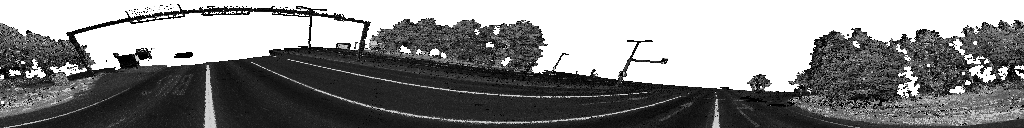gantry_sign_pole: (66, 4, 370, 75), (620, 40, 666, 80)
light_pole: (552, 53, 568, 69), (308, 17, 311, 55)
